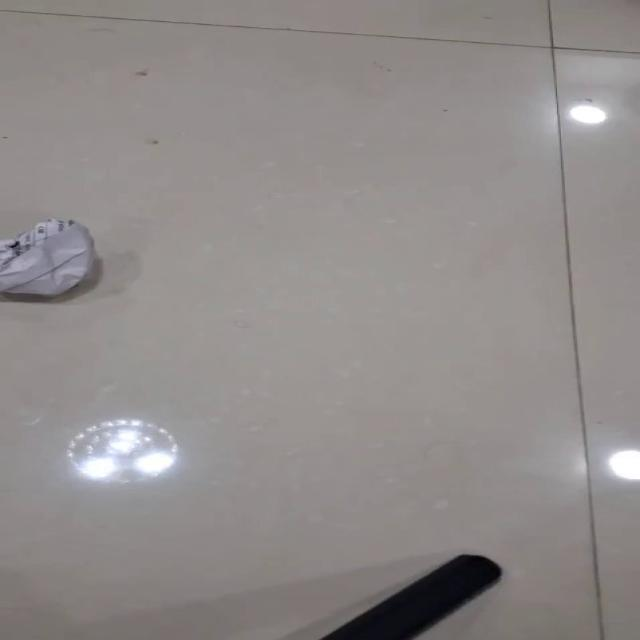paper: (0, 217, 95, 297)
